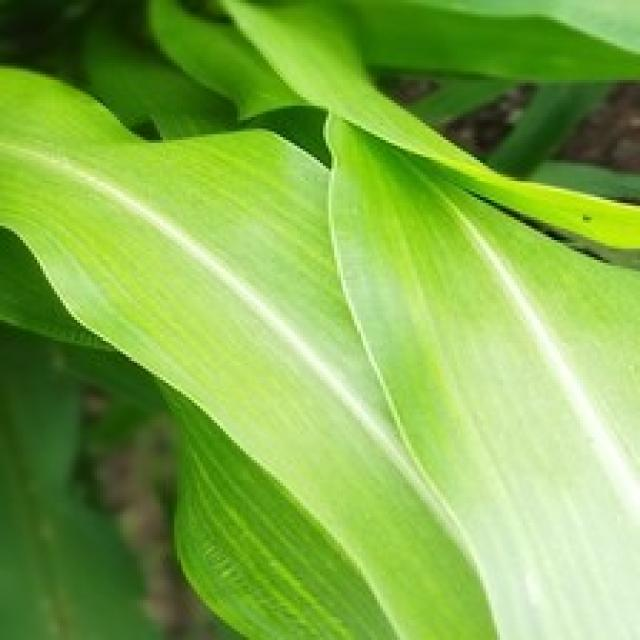Corn: (0, 0, 637, 637), (320, 109, 637, 637)
